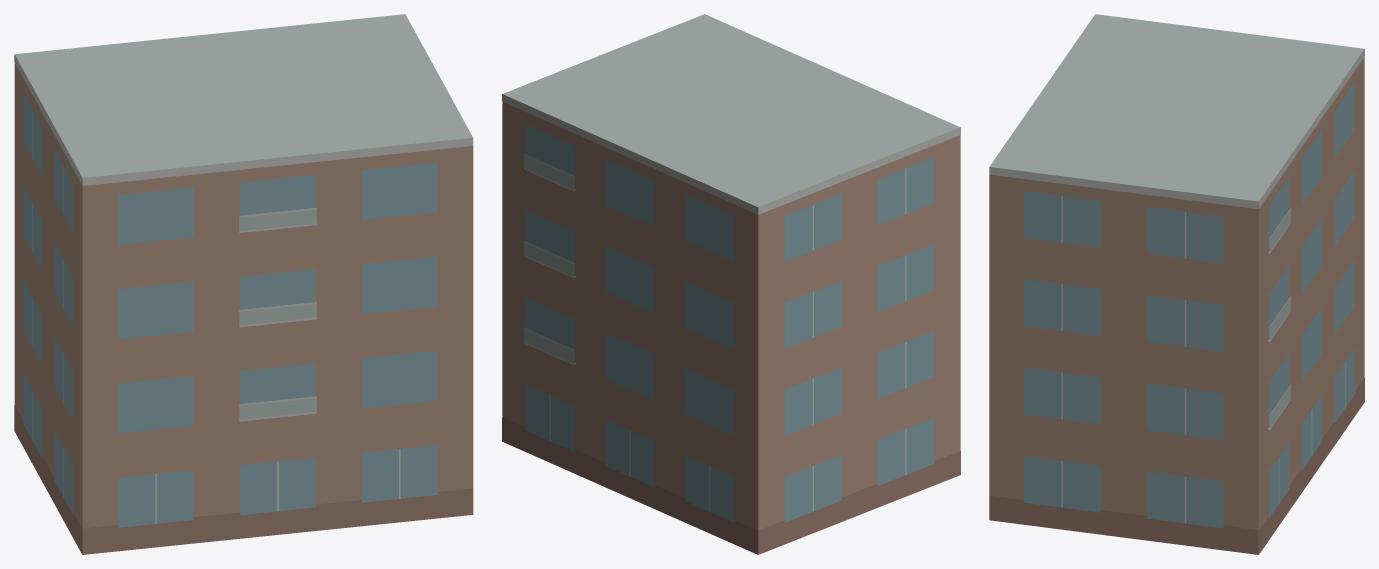
Rendered from survey-upis-32877777.glb.
The picture shows the model from 3 angles, left to right: view 1: azimuth 30°, elevation 25°; view 2: azimuth 150°, elevation 25°; view 3: azimuth 270°, elevation 25°; orthographic projection. The views are drawn at different scales.
Visible parts, largest first — view 1: survey-upis-32877777.tmp; view 2: survey-upis-32877777.tmp; view 3: survey-upis-32877777.tmp.
Part boxes in pixels (box(x1,y1,x2,y2)): survey-upis-32877777.tmp: box(14, 14, 473, 554); survey-upis-32877777.tmp: box(502, 14, 960, 554); survey-upis-32877777.tmp: box(989, 14, 1364, 554).
Bounding box in the file's own units: 12.87 × 11.3 × 10.89.
